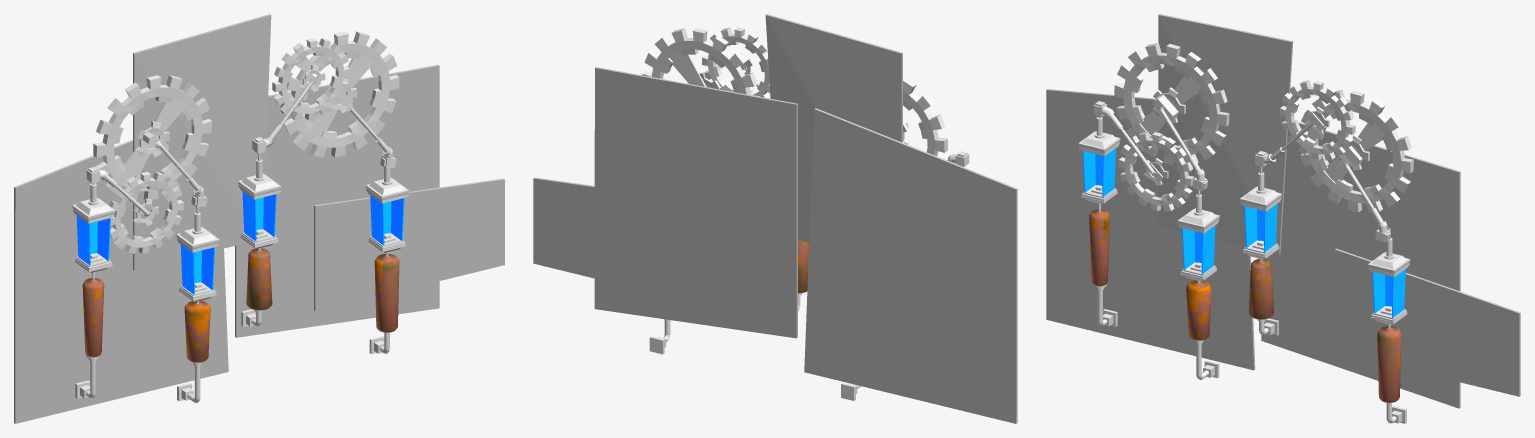
Rendered from ModifiedEngineBatteryStation.fbx.
The picture shows the model from 3 angles, left to right: view 1: azimuth 30°, elevation 25°; view 2: azimuth 150°, elevation 25°; view 3: azimuth 330°, elevation 25°; orthographic projection. The views are drawn at different scales.
Visible parts, largest first — view 1: Wall, Large_Gear, Large_Gear_001, Small_Gear_001, Small_Gear, Bottle_003, Bottle, Bottle_001, Bottle_002, BatteryBox_001, BatteryBox, BatteryBox_002 (+11 smaller); view 2: Wall, Large_Gear_001, Small_Gear_001, Large_Gear, Bottle_001; view 3: Wall, Large_Gear, Large_Gear_001, Small_Gear_001, Small_Gear, Bottle_003, Bottle, Bottle_002, Bottle_001, BatteryBox, BatteryBox_001, BatteryBox_003 (+11 smaller).
Boxes of the visible parts, x1,y1,x2,y2 form: Wall: (14, 14, 504, 423); Large_Gear: (93, 75, 211, 200); Large_Gear_001: (280, 31, 399, 157); Small_Gear_001: (272, 38, 349, 120); Small_Gear: (109, 172, 183, 253); Bottle_003: (374, 253, 399, 332); Bottle: (82, 278, 104, 357); Bottle_001: (246, 248, 272, 310); Bottle_002: (184, 300, 210, 362); BatteryBox_001: (238, 153, 281, 251); BatteryBox: (72, 183, 115, 280); BatteryBox_002: (176, 207, 219, 303); Wall: (533, 14, 1017, 423); Large_Gear_001: (642, 28, 759, 96); Small_Gear_001: (702, 27, 770, 98); Large_Gear: (903, 78, 947, 156); Bottle_001: (798, 240, 809, 293); Wall: (1046, 14, 1520, 408); Large_Gear: (1114, 43, 1229, 165); Large_Gear_001: (1300, 90, 1413, 213); Small_Gear_001: (1280, 80, 1355, 160); Small_Gear: (1118, 131, 1194, 211); Bottle_003: (1377, 326, 1401, 402); Bottle: (1089, 209, 1110, 286); Bottle_002: (1186, 280, 1211, 340); Bottle_001: (1248, 259, 1273, 319); BatteryBox: (1078, 116, 1120, 211); BatteryBox_001: (1240, 166, 1281, 261); BatteryBox_003: (1368, 228, 1410, 328).
Bounding box in the file's own units: 35.38 × 25.31 × 2.83.
